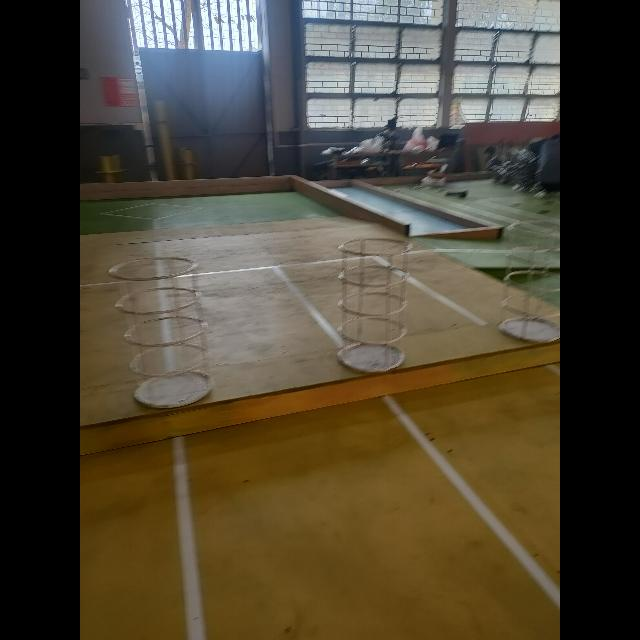S: (108, 256, 216, 410), (336, 237, 412, 374)
